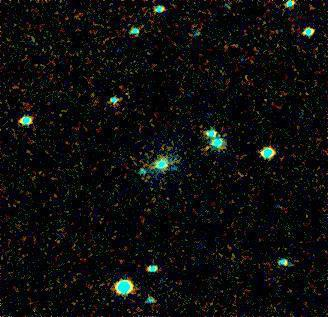star: (187, 133, 217, 163)
